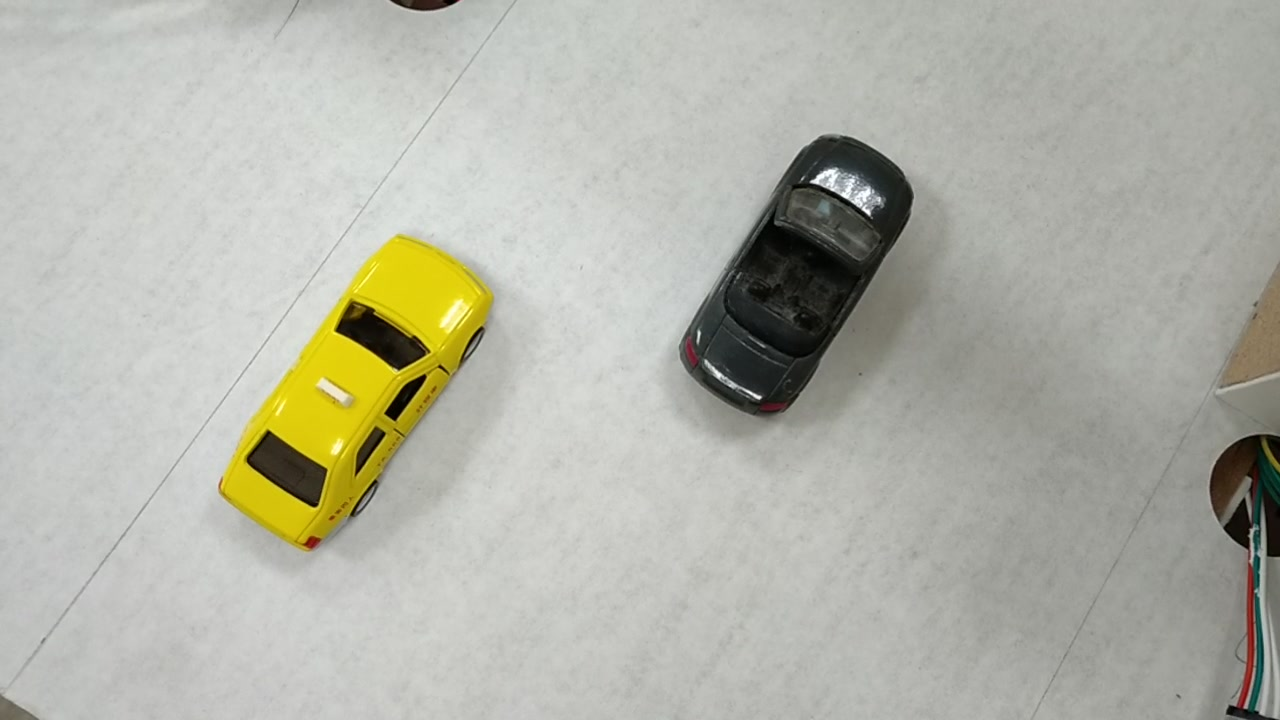car: (219, 232, 489, 554), (678, 139, 915, 411)
